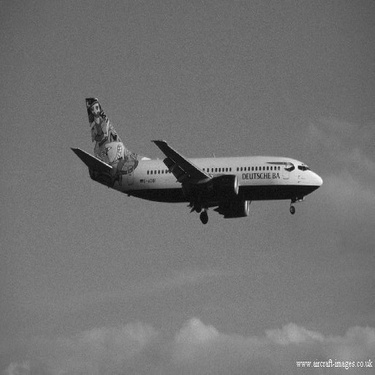airplane: (41, 71, 330, 237)
